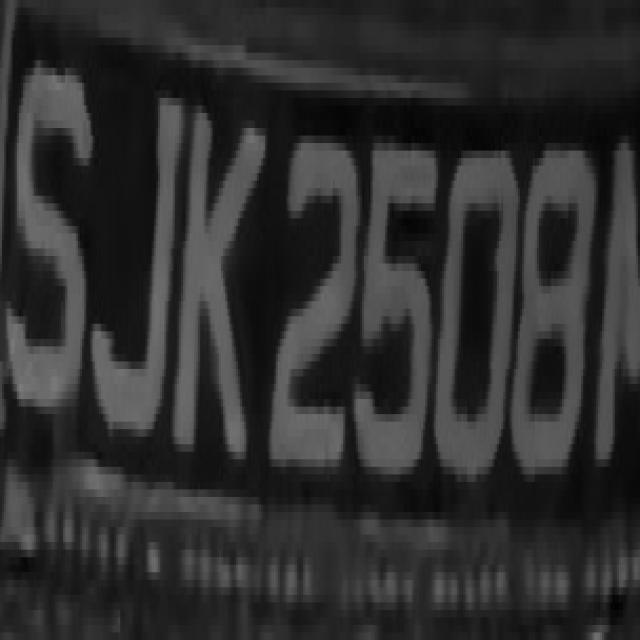0: (432, 106, 516, 520)
2: (274, 83, 358, 482)
5: (356, 90, 429, 482)
8: (512, 75, 596, 497)
J: (88, 52, 175, 452)
K: (175, 68, 267, 474)
S: (10, 22, 86, 436)
